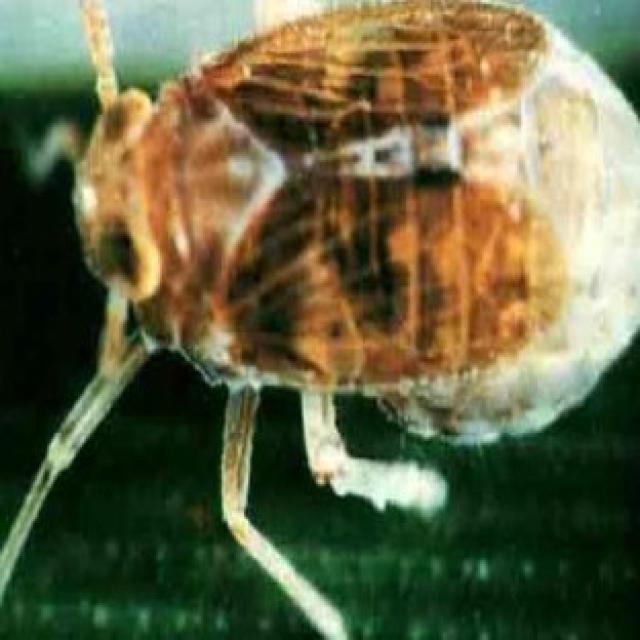brown plant hopper: (0, 0, 638, 589)
